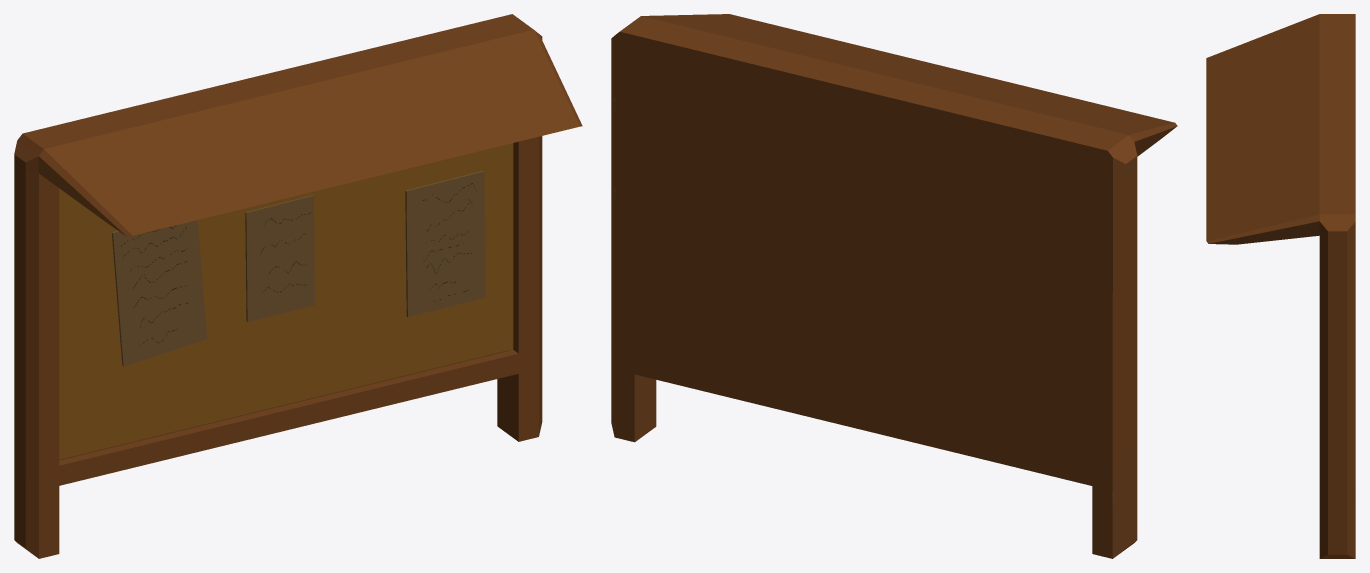
The model's file is Board.fbx.
The picture shows the model from 3 angles, left to right: view 1: azimuth 30°, elevation 25°; view 2: azimuth 150°, elevation 25°; view 3: azimuth 270°, elevation 25°; orthographic projection. The views are drawn at different scales.
Visible parts, largest first — view 1: Cube; view 2: Cube; view 3: Cube.
Part boxes in pixels (bbox=[...]): Cube: bbox=[14, 14, 582, 558]; Cube: bbox=[611, 14, 1177, 558]; Cube: bbox=[1206, 14, 1355, 558].
Bounding box in the file's own units: 562 × 425 × 168.
1 material, 1 textured.
